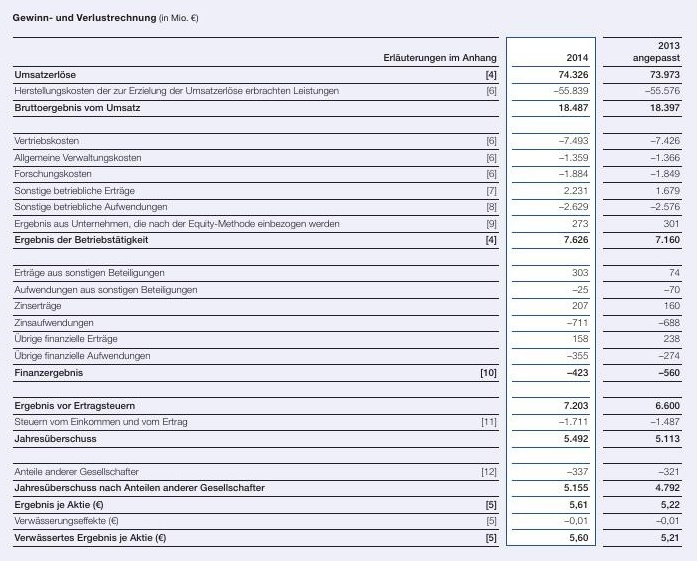table: (0, 0, 697, 561)
